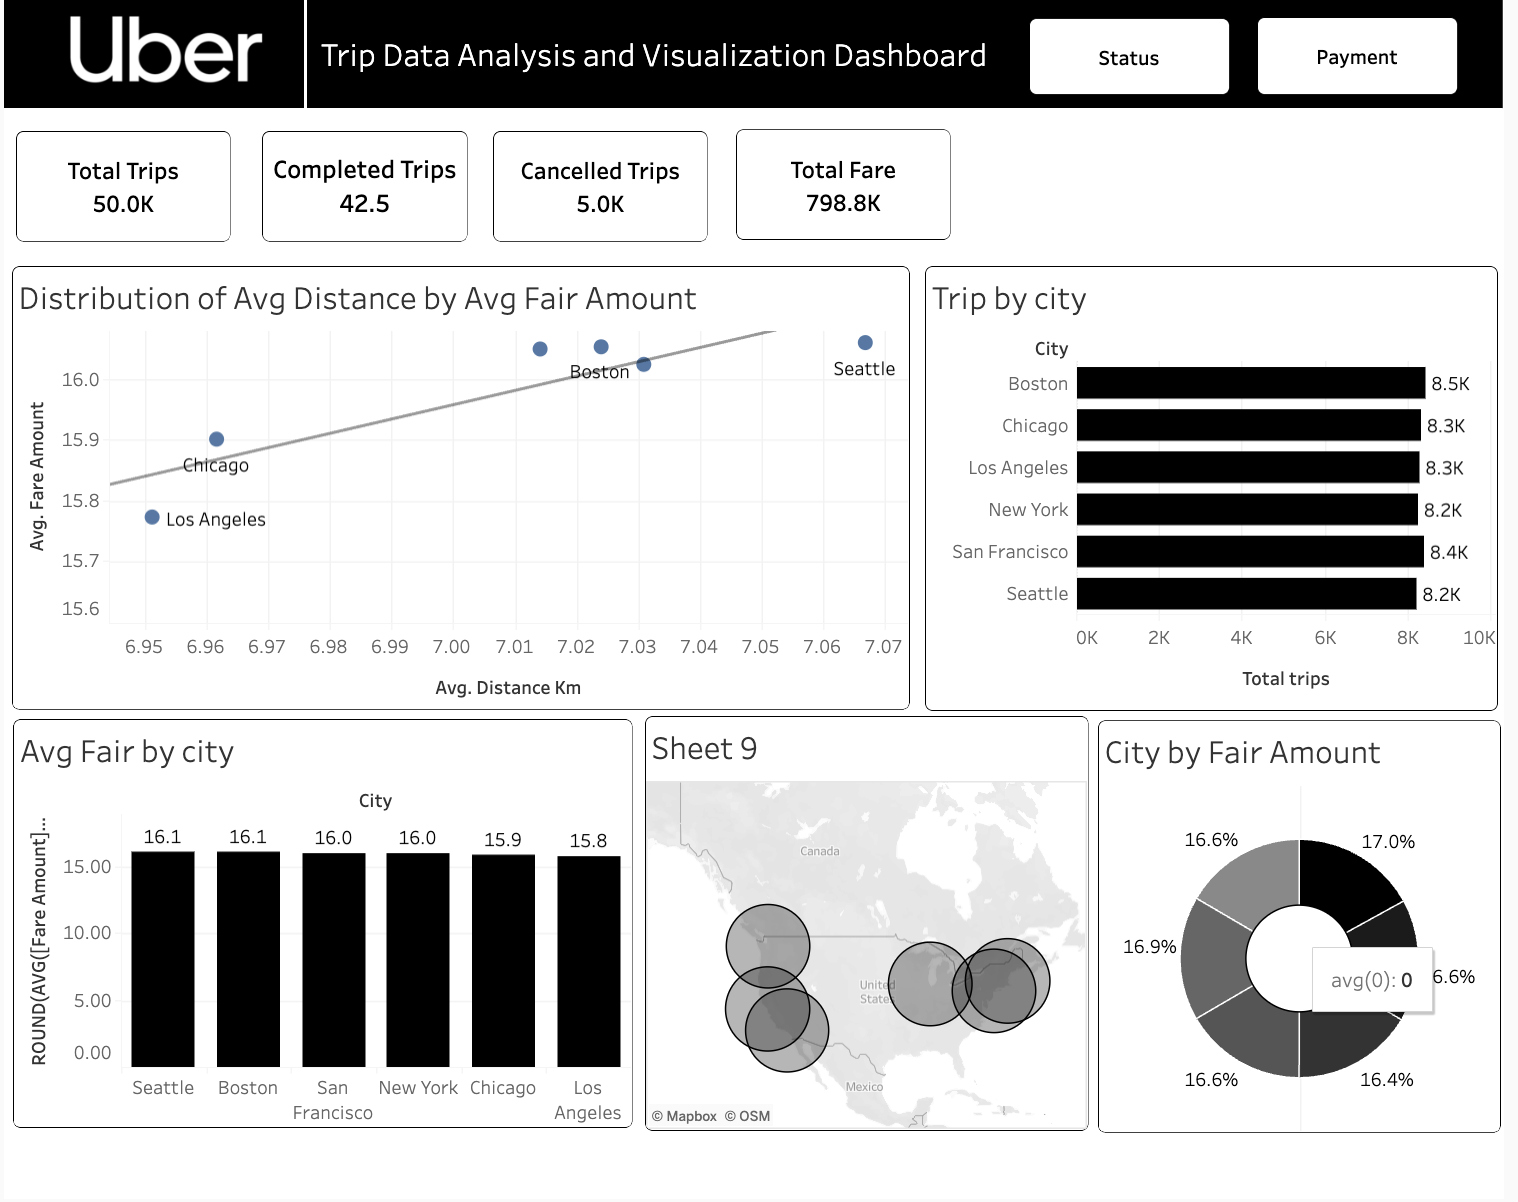

The dashboard page shown, as its layout file describes it:
{"tool":"tableau","page":{"name":"Dashboard 1","canvas":[1000,800],"ordinal":0},"visuals":[{"type":"image","param":"Image/Screenshot 2026-03-15 at 1.22.16 PM.png","box":[0,0,200,100]},{"type":"text","box":[202,0,797,73]},{"type":"text","box":[835,12,134,52]},{"type":"text","box":[683,13,134,51]},{"type":"text","box":[488,87,143,74]},{"type":"text","box":[8,88,143,74]},{"type":"text","box":[172,88,137,74]},{"type":"text","box":[326,88,143,74]},{"type":"worksheet","title":"Distribution of Avg Distance by Avg Fair Amount","mark":"Circle","rows":["fare_amount"],"cols":["distance_km"],"box":[5,178,599,296]},{"type":"worksheet","title":"Trip by city","mark":"Automatic","rows":["city"],"cols":["Calculation_1939667232010251"],"box":[614,178,382,297]},{"type":"text","box":[428,347,100,30]},{"type":"worksheet","title":"Sheet 9","mark":"Circle","box":[427,478,296,277]},{"type":"worksheet","title":"Avg Fair by city","mark":"Automatic","rows":["Calculation_1939667233222670"],"cols":["city"],"box":[6,480,413,273]},{"type":"worksheet","title":"City by Fair Amount","mark":"Pie","cols":["Calculation_1939667242258456","Calculation_1939667242258456"],"box":[729,481,269,275]}]}

Visuals, with their boxes in screenshot pixels (x1, y1, x2, y2), scaled from the page's 1000x800 canvas onto the 1518x1202 screenshot:
image: {"left": 0, "top": 0, "right": 304, "bottom": 150}
text: {"left": 307, "top": 0, "right": 1516, "bottom": 110}
text: {"left": 1268, "top": 18, "right": 1471, "bottom": 96}
text: {"left": 1037, "top": 20, "right": 1240, "bottom": 96}
text: {"left": 741, "top": 131, "right": 958, "bottom": 242}
text: {"left": 12, "top": 132, "right": 229, "bottom": 243}
text: {"left": 261, "top": 132, "right": 469, "bottom": 243}
text: {"left": 495, "top": 132, "right": 712, "bottom": 243}
"Distribution of Avg Distance by Avg Fair Amount" worksheet (Circle marks): {"left": 8, "top": 267, "right": 917, "bottom": 712}
"Trip by city" worksheet: {"left": 932, "top": 267, "right": 1512, "bottom": 714}
text: {"left": 650, "top": 521, "right": 802, "bottom": 566}
"Sheet 9" worksheet (Circle marks): {"left": 648, "top": 718, "right": 1098, "bottom": 1134}
"Avg Fair by city" worksheet: {"left": 9, "top": 721, "right": 636, "bottom": 1131}
"City by Fair Amount" worksheet (Pie marks): {"left": 1107, "top": 723, "right": 1515, "bottom": 1136}
